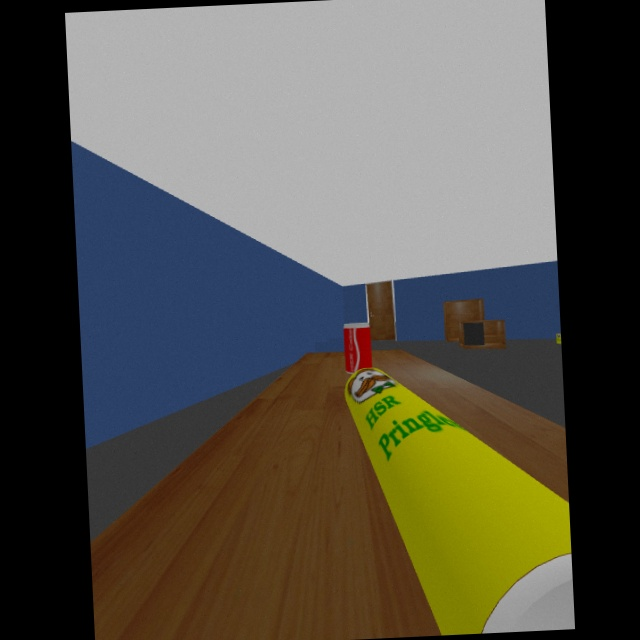chipsdose_gelb: (344, 367, 576, 637)
